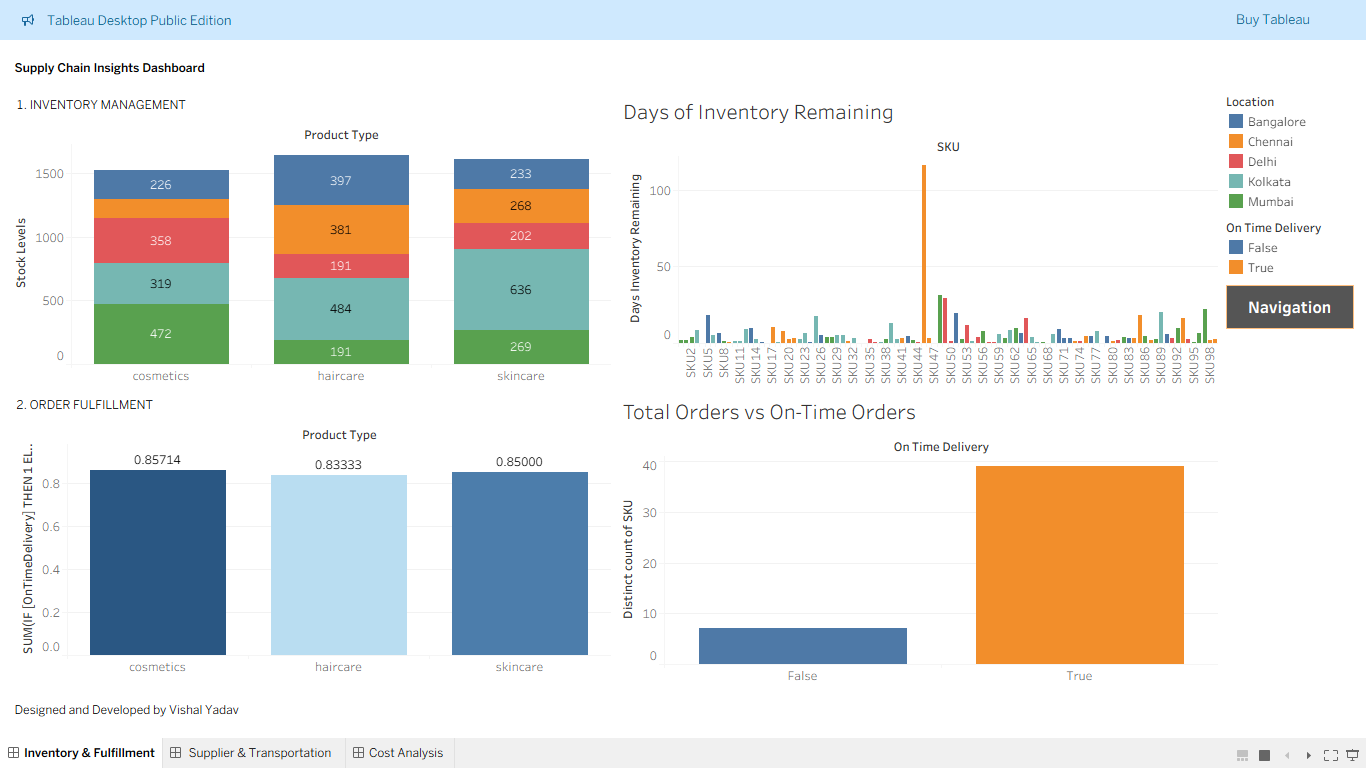

What the dashboard file says about the page in this screenshot:
{"tool":"tableau","page":{"name":"Inventory & Fulfillment","canvas":[1000,1000],"units":"permille","ordinal":2},"visuals":[{"type":"text","box":[6.9,14.5,986.1,57.9]},{"type":"worksheet","title":"Stock Levels by Product Type","mark":"Automatic","rows":["StockLevels"],"cols":["ProductType"],"box":[6.9,72.4,434.1,427.5]},{"type":"worksheet","title":"Days of Inventory Remaining","mark":"Automatic","rows":["DaysInventoryRemaining"],"cols":["SKU"],"box":[441.1,72.4,434.2,427.5]},{"type":"legend","title":"Days of Inventory Remaining","param":"[federated.07vt0mj0po1mqy1gqi3b60ctnczp].[none:Location:nk]","box":[875.3,72.4,117.8,228.3]},{"type":"legend","title":"Total Orders vs On-Time Orders","param":"[federated.07vt0mj0po1mqy1gqi3b60ctnczp].[none:OnTimeDelivery:nk]","box":[875.3,300.7,117.8,119.6]},{"type":"dashboard-object","box":[875.3,420.2,117.8,94.2]},{"type":"worksheet","title":"On-Time Delivery Rate by Product Type","mark":"Automatic","rows":["Calculation_752945593062027264"],"cols":["ProductType"],"box":[6.9,499.9,434.1,427.6]},{"type":"worksheet","title":"Total Orders vs On-Time Orders","mark":"Automatic","rows":["SKU"],"cols":["OnTimeDelivery"],"box":[441.1,499.9,434.2,427.6]},{"type":"text","box":[6.9,927.5,986.1,58]}]}

Visuals, with their boxes on the dashboard's canvas, which has no fixed pixel size, in thousandths of its width and height (x1, y1, x2, y2). These are canvas units, not pixel positions in the 1366x768 screenshot, which may show the page scaled, cropped or inside an application window:
text: l=7, t=14, r=993, b=72
"Stock Levels by Product Type" worksheet: l=7, t=72, r=441, b=500
"Days of Inventory Remaining" worksheet: l=441, t=72, r=875, b=500
"Days of Inventory Remaining" legend: l=875, t=72, r=993, b=301
"Total Orders vs On-Time Orders" legend: l=875, t=301, r=993, b=420
dashboard-object: l=875, t=420, r=993, b=514
"On-Time Delivery Rate by Product Type" worksheet: l=7, t=500, r=441, b=928
"Total Orders vs On-Time Orders" worksheet: l=441, t=500, r=875, b=928
text: l=7, t=928, r=993, b=986
